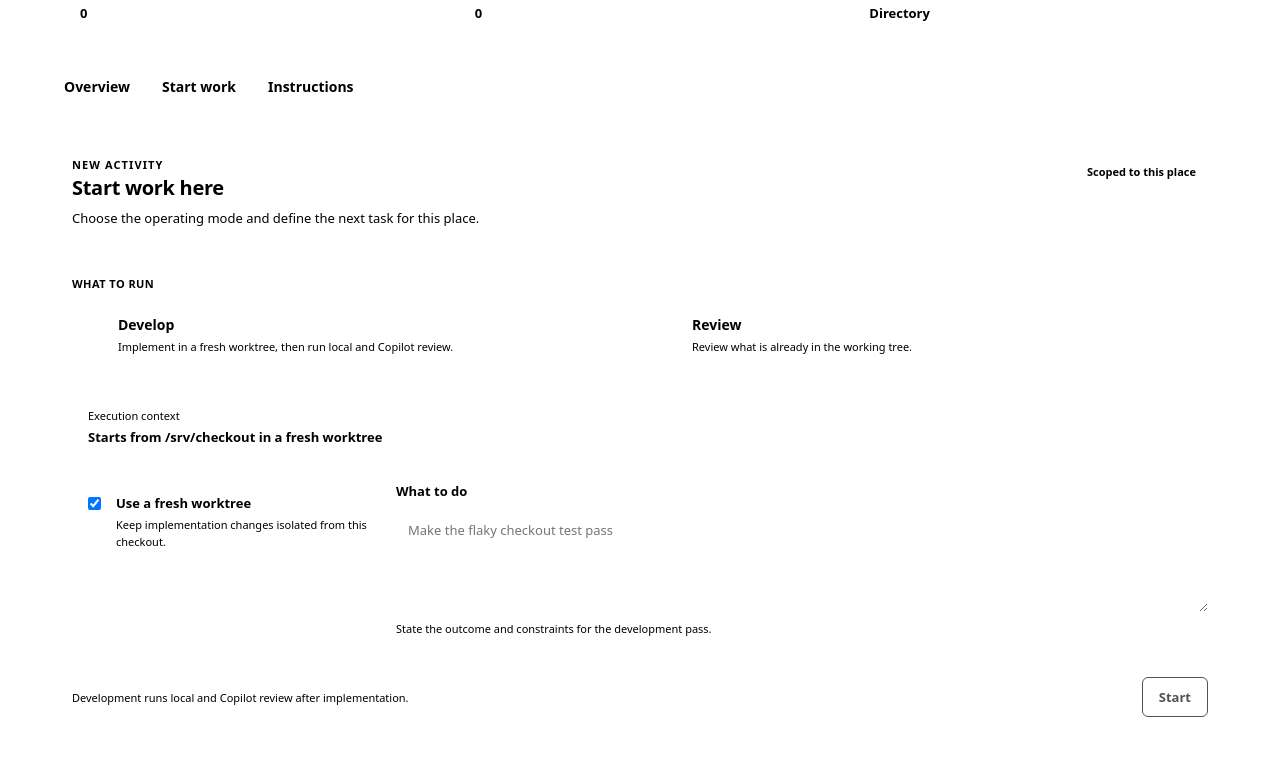
Test: says why it would not start, and leads to the work in the way
(page scrolled)
Type "make the flaky test pass" into the text box labelled "What to do" at (802, 560), box [396,508,1208,612]
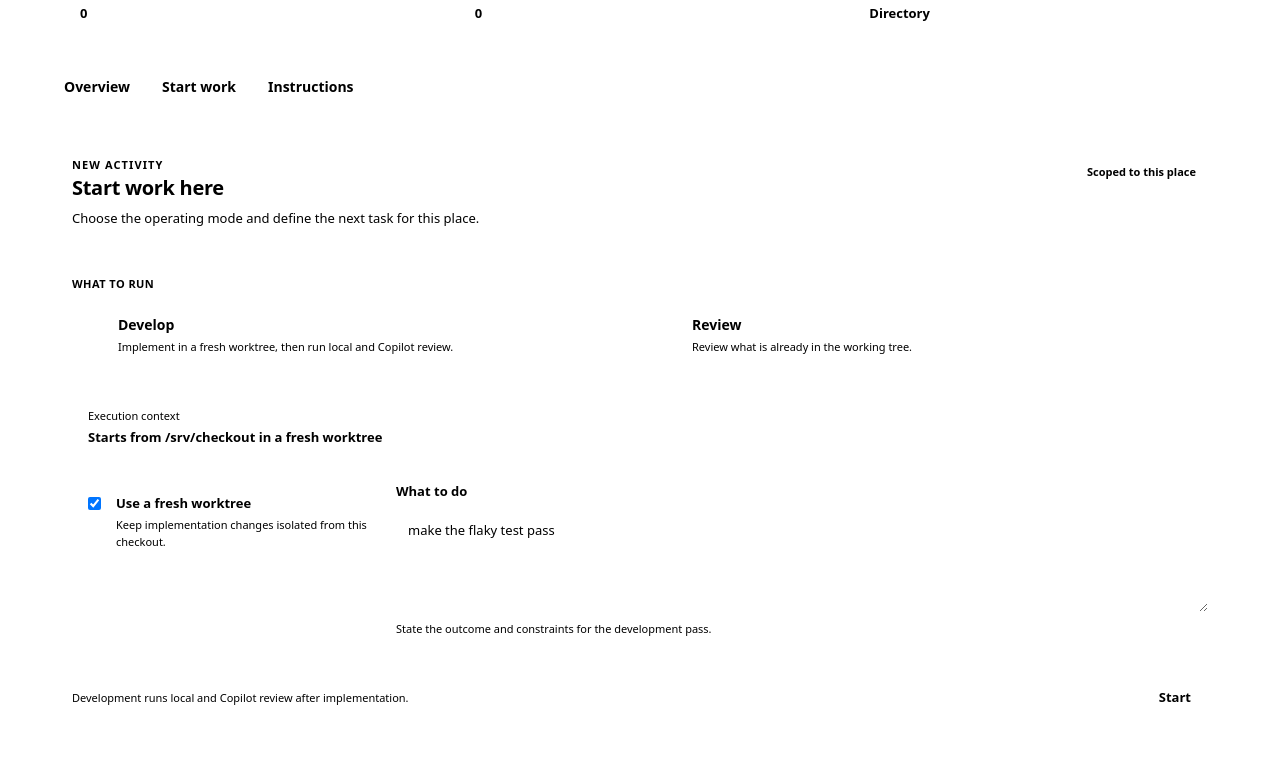
Click the button "Start" at (1175, 697), box [1142,677,1208,717]
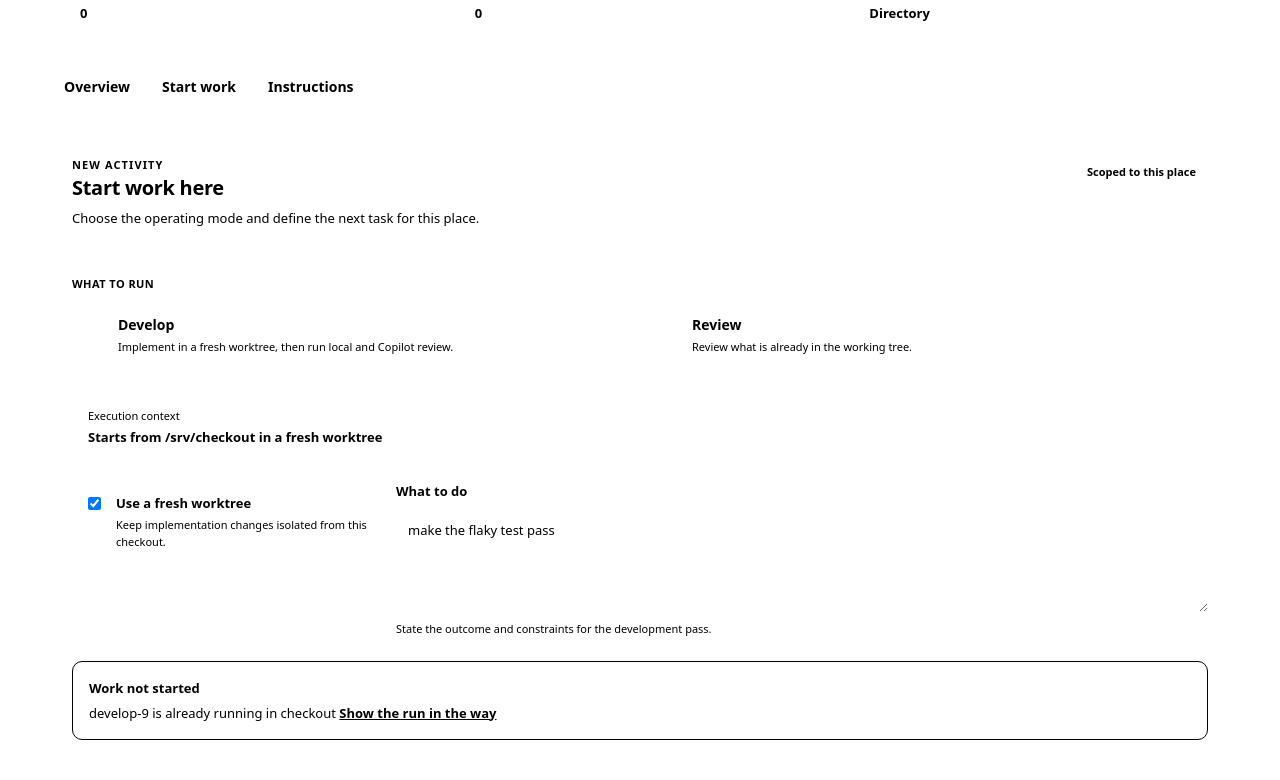
Check: the message shows "develop-9", box [89,704,336,722]
